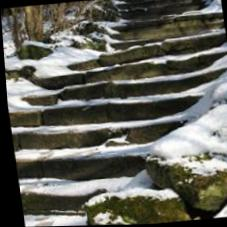Bench: (6, 79, 159, 210)
